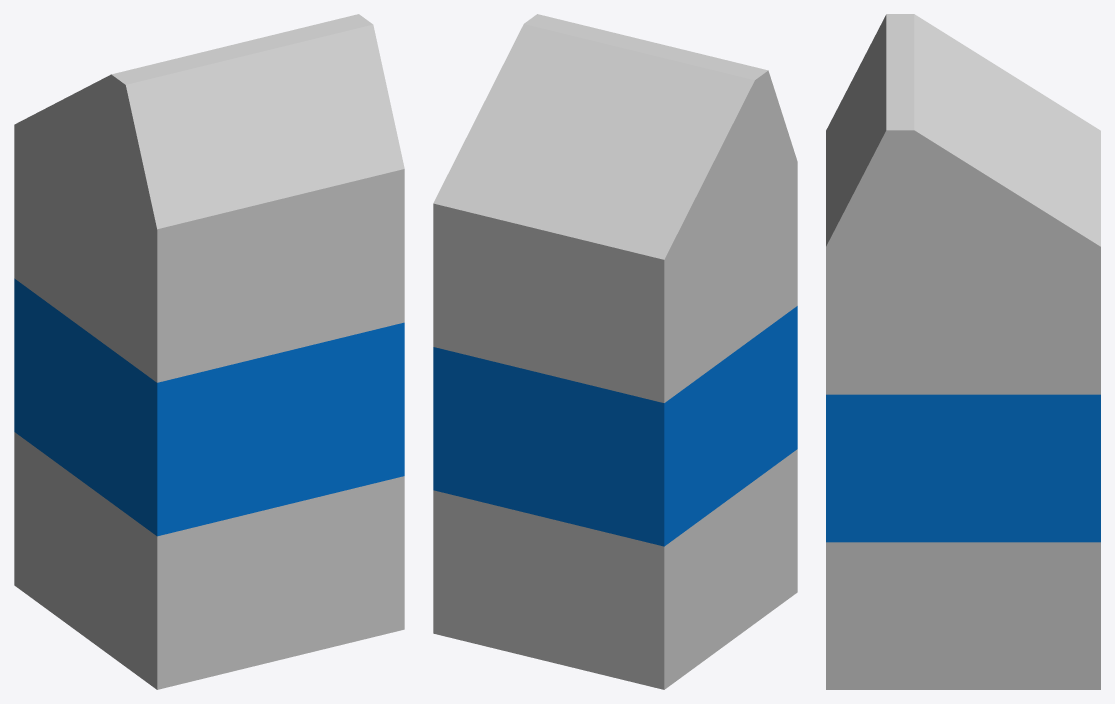
The model's file is Молочко.fbx.
3 views of the same model, side by side, from view 1: azimuth 30°, elevation 25°; view 2: azimuth 150°, elevation 25°; view 3: azimuth 270°, elevation 25° (orthographic). The views are drawn at different scales.
Parts seen in each view (by area): view 1: Cube.026; view 2: Cube.026; view 3: Cube.026.
Boxes of the visible parts, x1=… form: Cube.026: x1=14, y1=14, x2=404, y2=689; Cube.026: x1=433, y1=14, x2=797, y2=689; Cube.026: x1=826, y1=14, x2=1100, y2=689.
Size of the model in its own units: 50.46 by 113 by 50.46.
